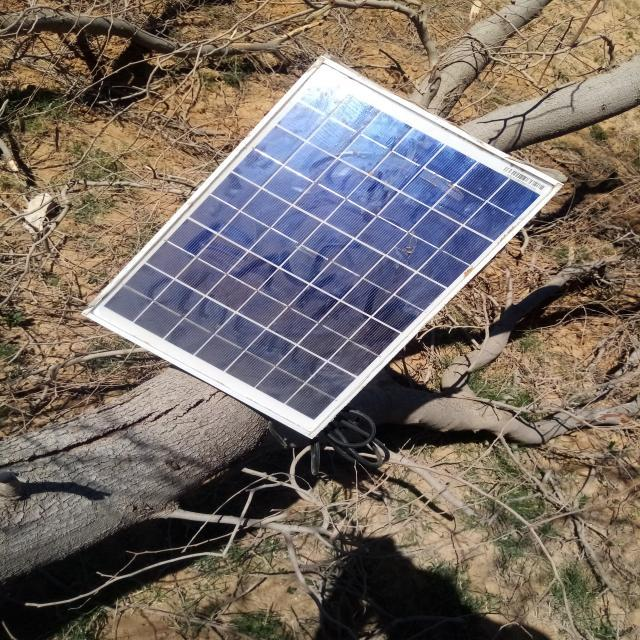faulty: (86, 59, 561, 435)
